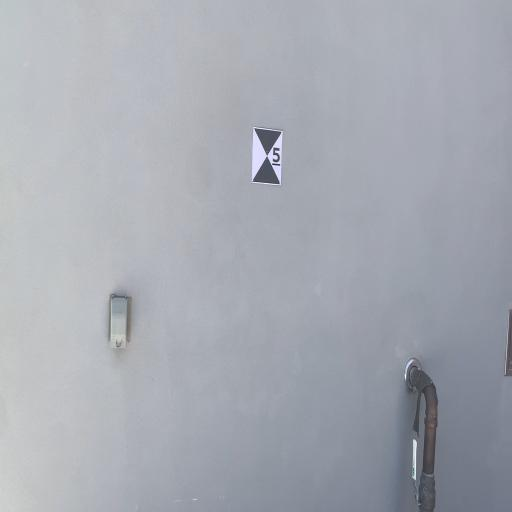target5: (254, 129, 284, 187)
